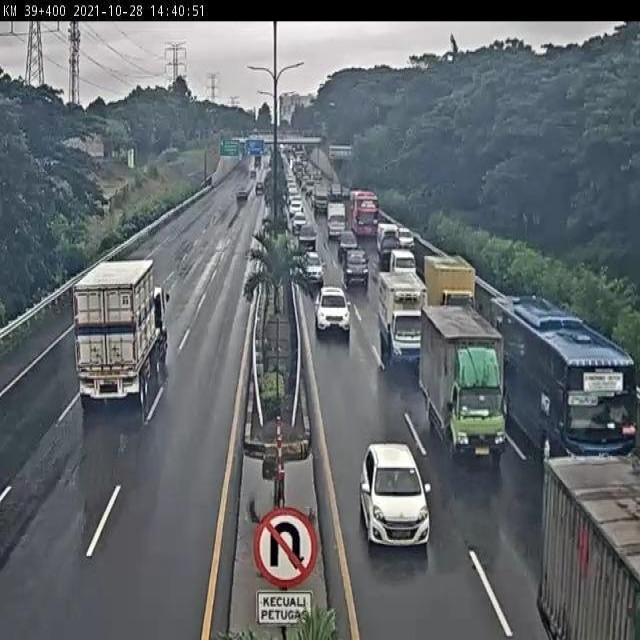Bus: (518, 328, 617, 441), (350, 190, 378, 237), (376, 224, 401, 268), (313, 188, 329, 211)
Car: (358, 442, 417, 540), (314, 286, 351, 338), (342, 249, 369, 288), (387, 248, 417, 279), (300, 251, 324, 289), (338, 231, 360, 264), (298, 223, 317, 251), (396, 227, 416, 250), (289, 197, 303, 221), (292, 212, 307, 234), (330, 183, 342, 200), (236, 186, 249, 201), (256, 180, 264, 194), (250, 168, 256, 178)
Truck: (537, 452, 639, 639), (419, 305, 506, 466), (77, 273, 160, 409), (375, 266, 427, 370), (424, 257, 474, 308), (326, 202, 346, 240)
